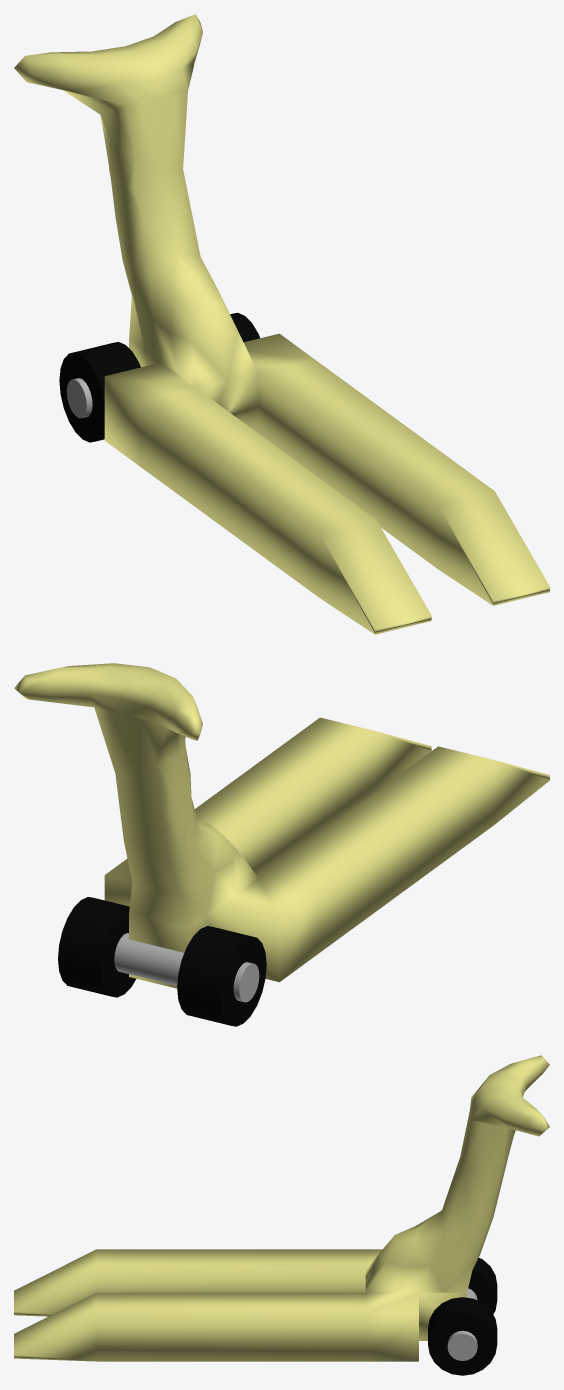
File: ForkLift.fbx
3 renders of one model, top to bottom at view 1: azimuth 30°, elevation 25°; view 2: azimuth 150°, elevation 25°; view 3: azimuth 270°, elevation 25°, orthographic. The views are drawn at different scales.
Visible parts, largest first — view 1: pCylinder4; view 2: pCylinder4; view 3: pCylinder4.
Part boxes in pixels (x1,y1,x2,y2): pCylinder4: (14,14,549,634); pCylinder4: (14,663,549,1026); pCylinder4: (14,1055,549,1375).
Bounding box in the file's own units: 3.02 × 5.43 × 10.05.
